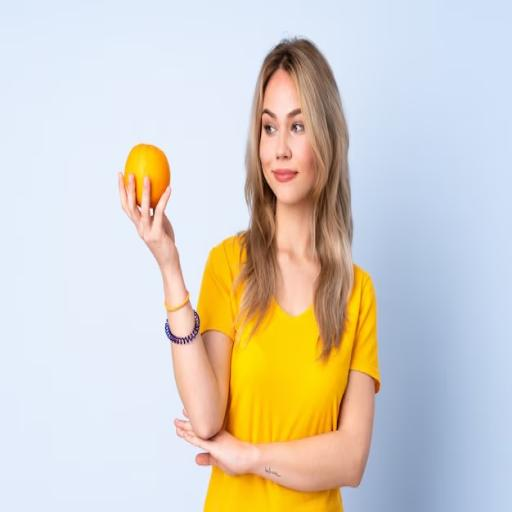orange: (125, 144, 170, 208)
